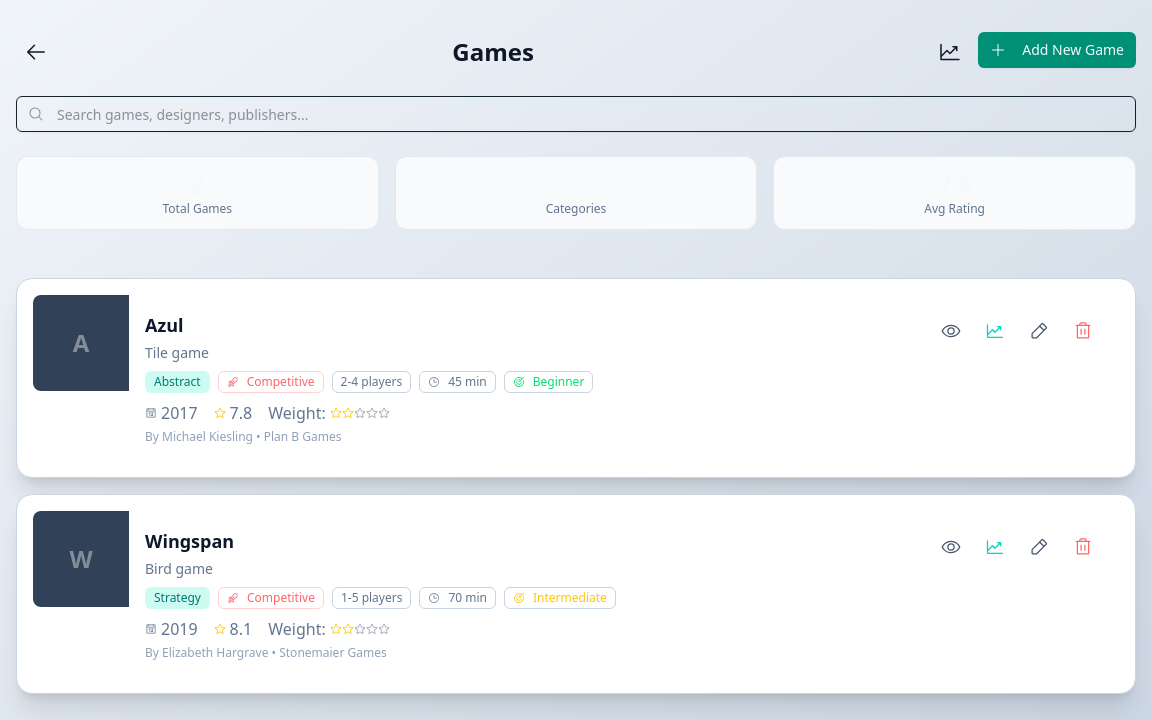
GamesPage — flux CRUD › filtre les jeux par nom
Expected: the heading "Wingspan" is shown, [145,529,234,553]
Type "azul" into the field with placeholder "Search games, designers, publishers...".
click(576, 114); type("azul")  # box [16,96,1136,132]
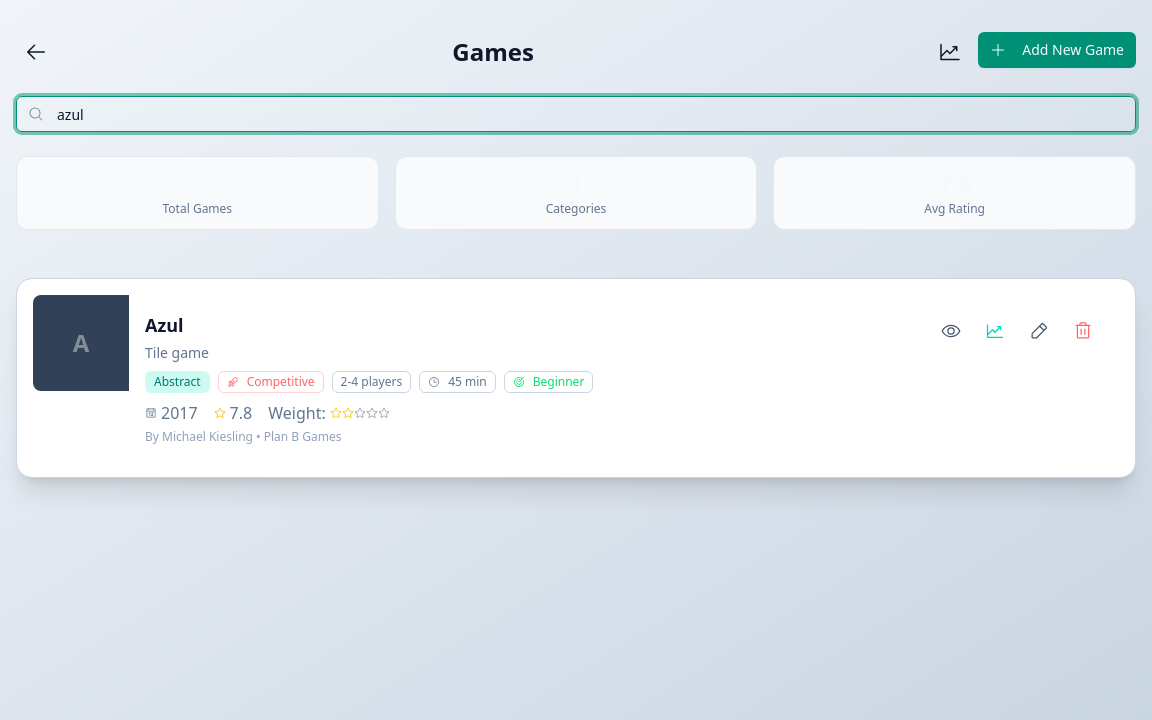
Expected: the heading "Azul" is shown, [145,313,184,337]
Now the heading "Wingspan" is gone
